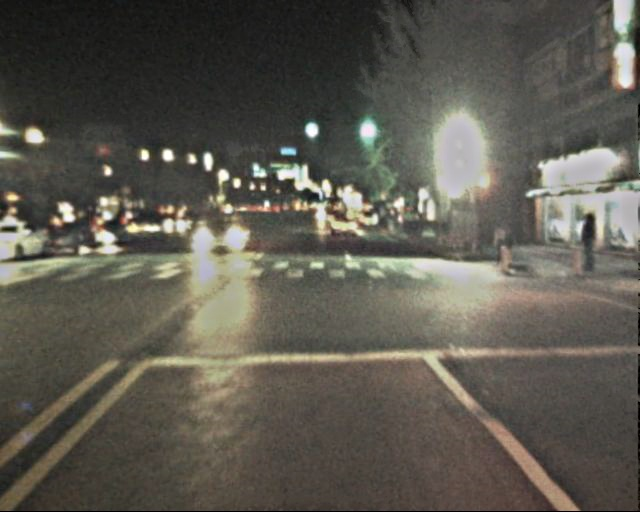person: (577, 213, 607, 279), (490, 216, 515, 273)
